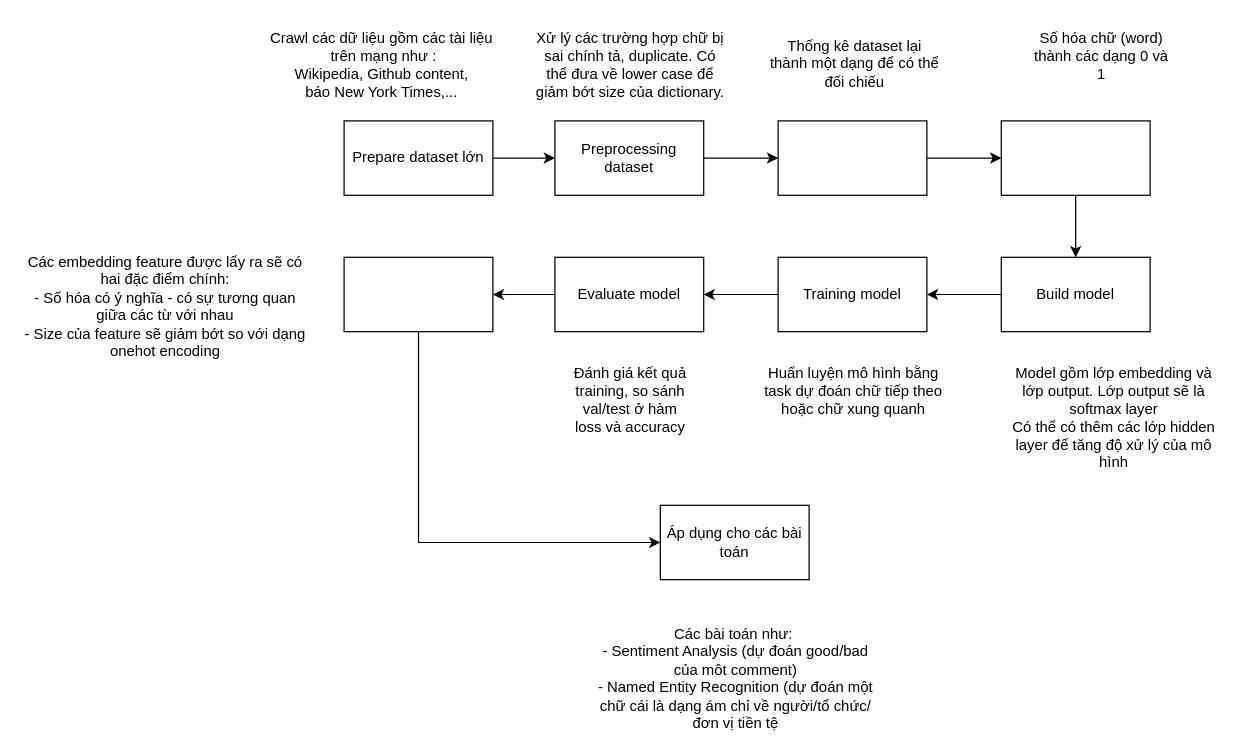
The diagram is 1245 pixels wide and 753 high, and some of its shapes have lost their labels. Here are the shapes that lost their labels. From the top down, the box of each, then its label:
(777, 120, 927, 195): Tổng hợp dictionary
(1000, 120, 1150, 195): Onehot encoding
(343, 256, 493, 332): Lấy output của embedding layer trong model làm embedding features
